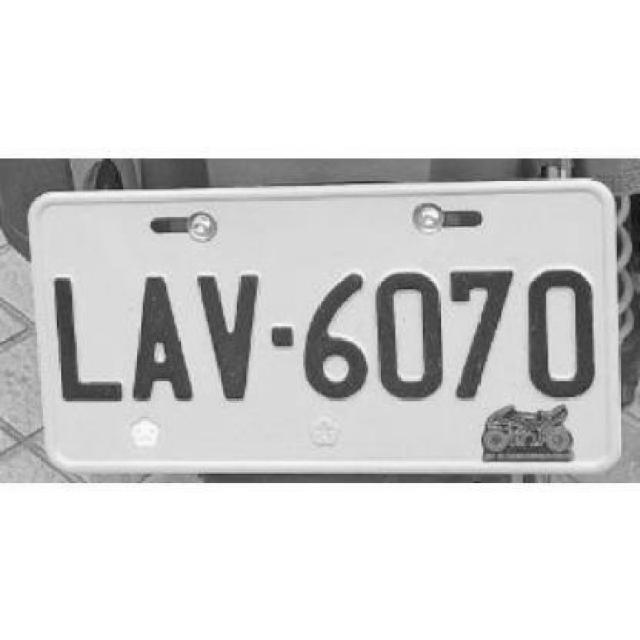-: (272, 326, 294, 345)
0: (528, 264, 597, 398), (374, 268, 443, 400)
6: (302, 268, 371, 400)
7: (451, 266, 515, 399)
A: (132, 271, 192, 400)
L: (54, 275, 124, 400)
V: (197, 270, 261, 402)
